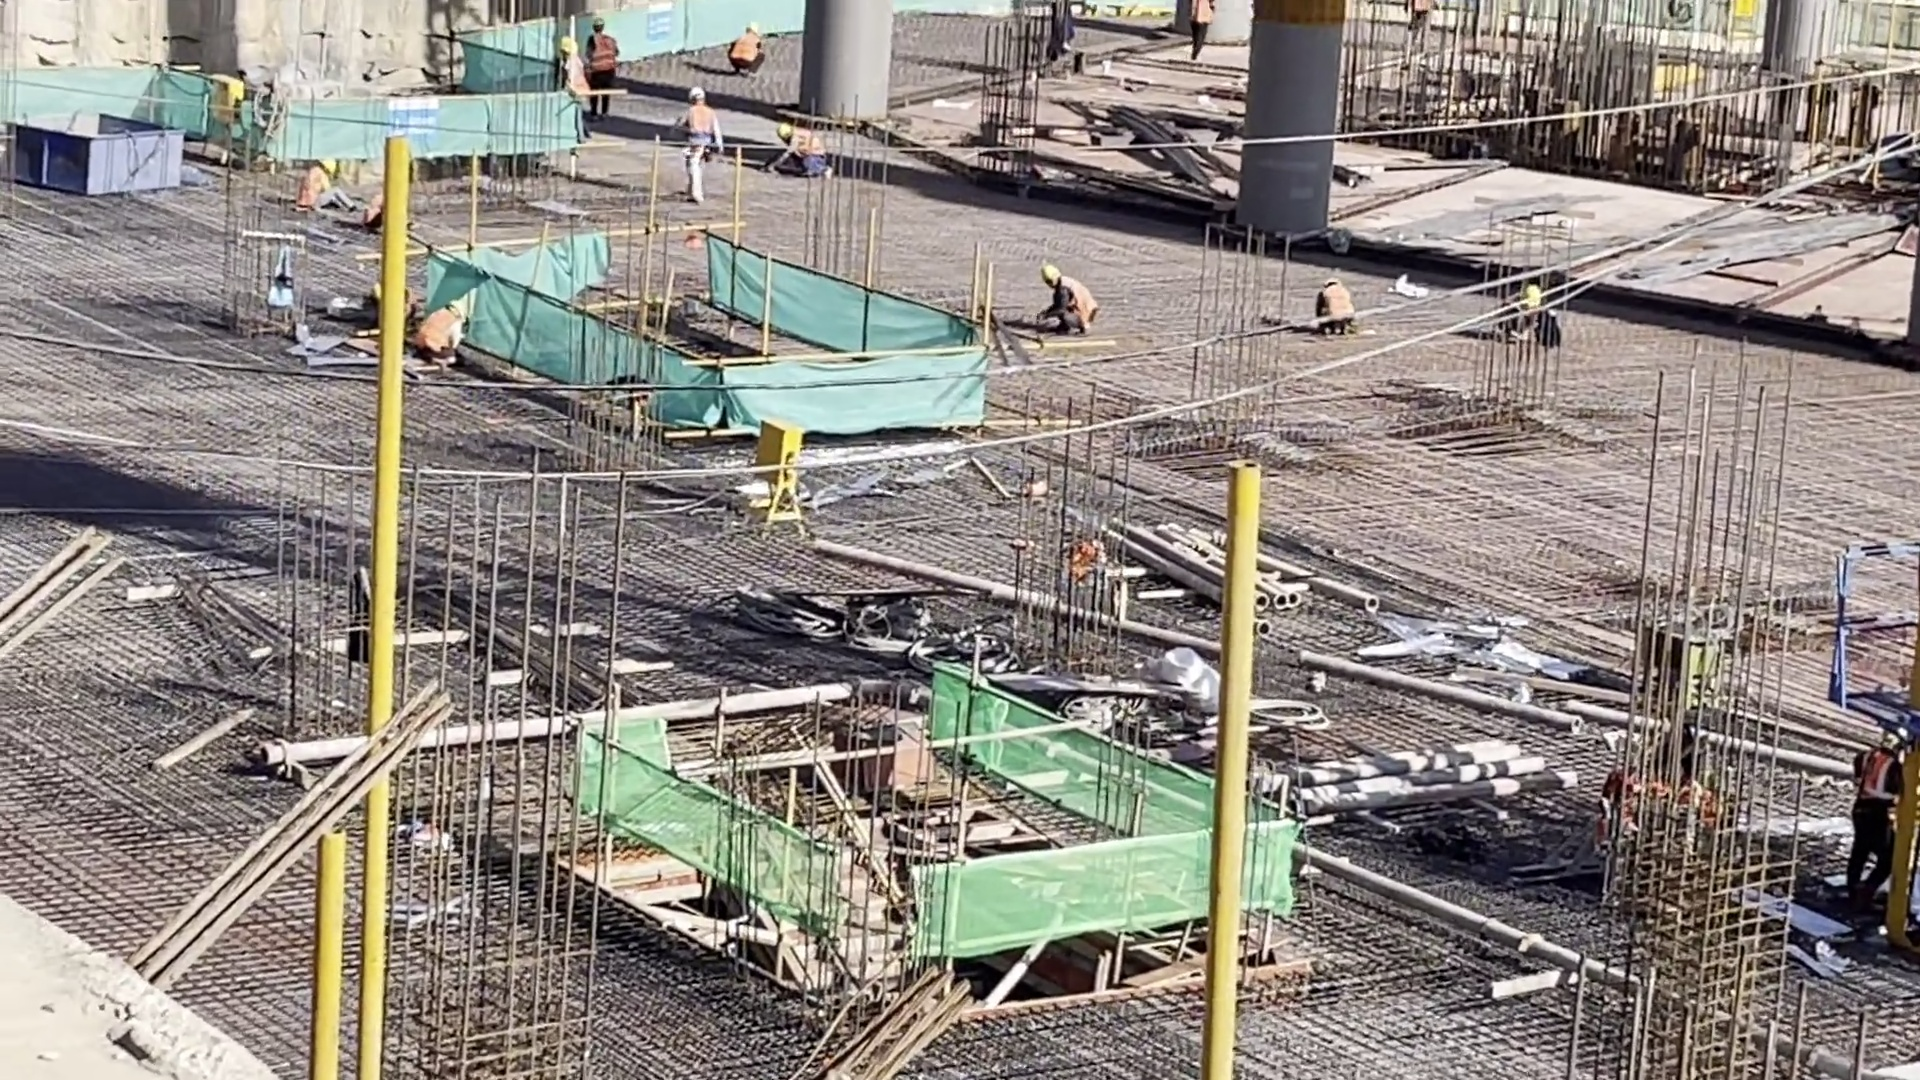helmet: (1041, 263, 1059, 284), (448, 300, 467, 320), (777, 119, 793, 141), (1524, 285, 1539, 307), (319, 157, 335, 173)
person: (1854, 720, 1897, 910), (682, 88, 720, 208), (1039, 264, 1098, 338), (415, 300, 469, 364), (586, 18, 619, 116), (558, 33, 588, 134), (773, 119, 824, 177), (304, 161, 355, 218), (1313, 277, 1356, 338), (731, 20, 767, 80), (1185, 1, 1213, 62)
vest: (1858, 746, 1897, 797), (417, 306, 458, 354), (1061, 274, 1092, 326), (682, 101, 717, 138), (1320, 288, 1352, 326), (592, 35, 616, 72), (298, 172, 325, 204), (732, 35, 762, 56), (1190, 1, 1213, 26)
